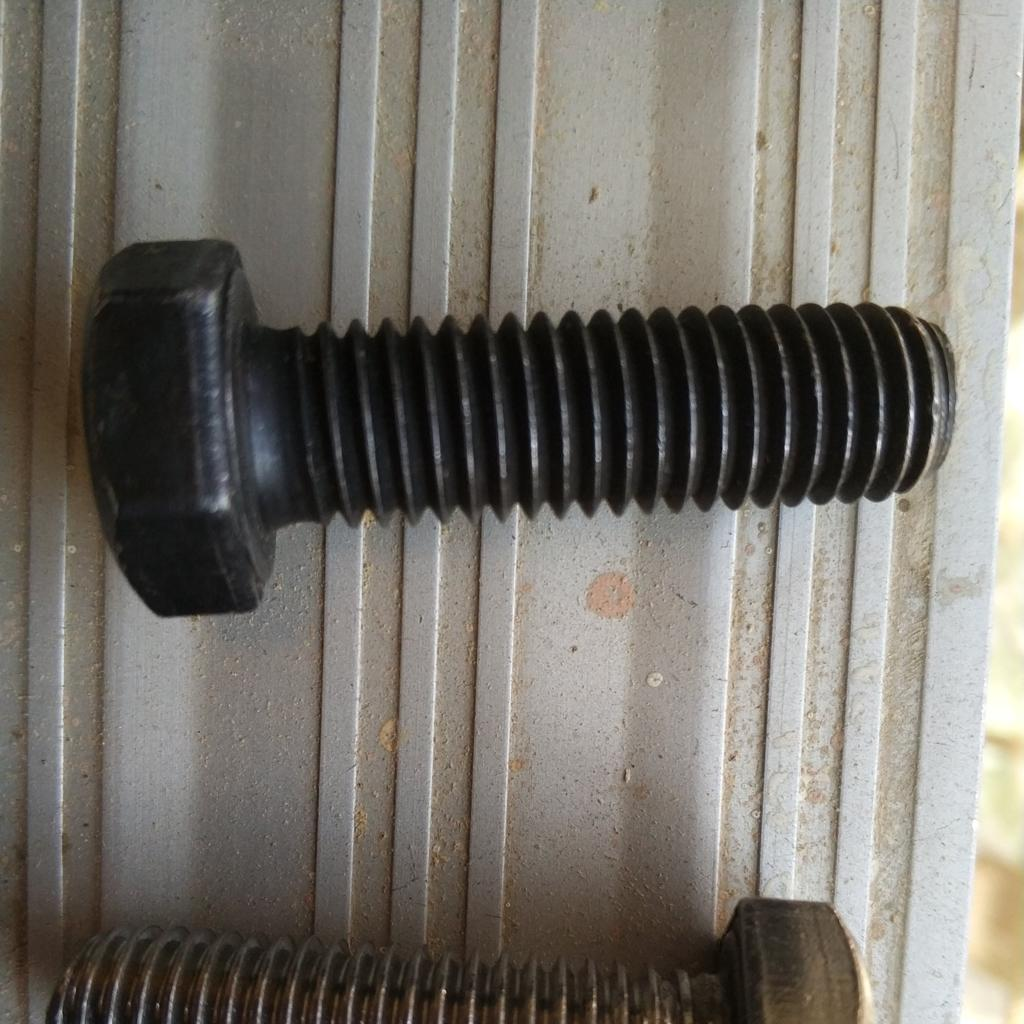screwtype2black: (76, 230, 962, 633)
screwtype2silver: (48, 886, 879, 1022)
